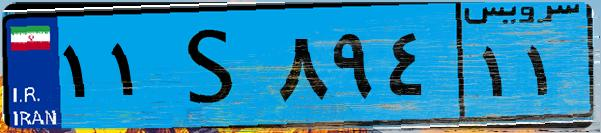1: (57, 26, 110, 100), (475, 38, 525, 113), (525, 38, 570, 115), (110, 28, 158, 98)
4: (385, 28, 445, 110)
8: (270, 28, 330, 110)
9: (330, 28, 385, 110)
S: (158, 12, 270, 120)
